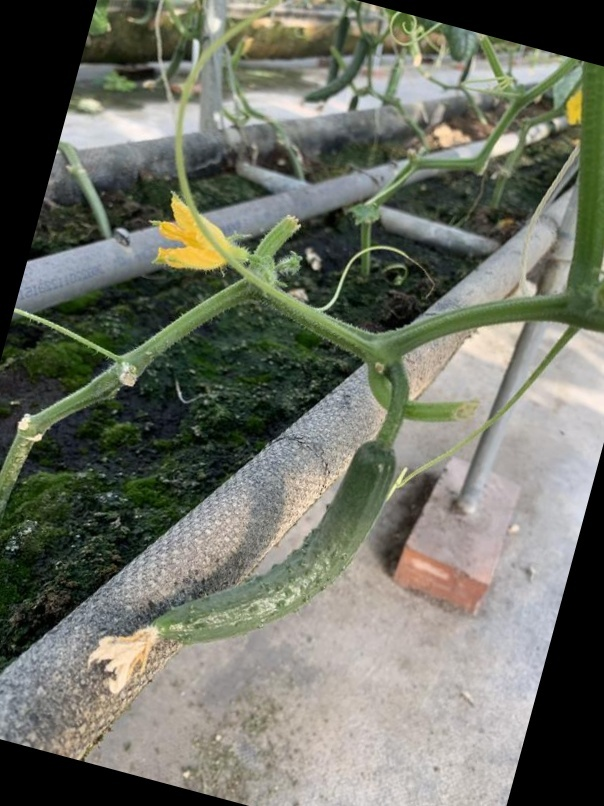bud: (151, 193, 250, 276)
growth: (104, 432, 409, 664)
